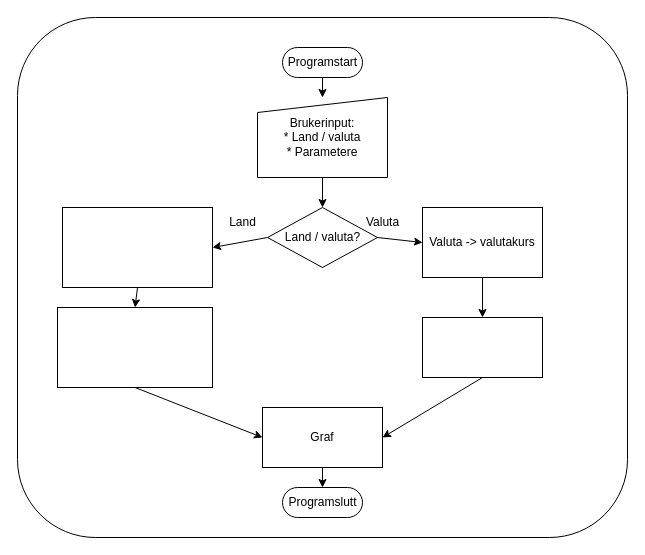
This 645x555 diagram has some shape labels left out. The shapes that lost their labels are listed below. From the top down, each one's box as (x1, y1, x2, y2) in pixels, then its label:
(62, 206, 212, 288): Land api -> flagg, valutakode, valutasymbol
(56, 306, 212, 388): Valutakode -> valuta-api -> kurs med parametere
(422, 316, 542, 378): Valutakode -> land-api --> symbol
